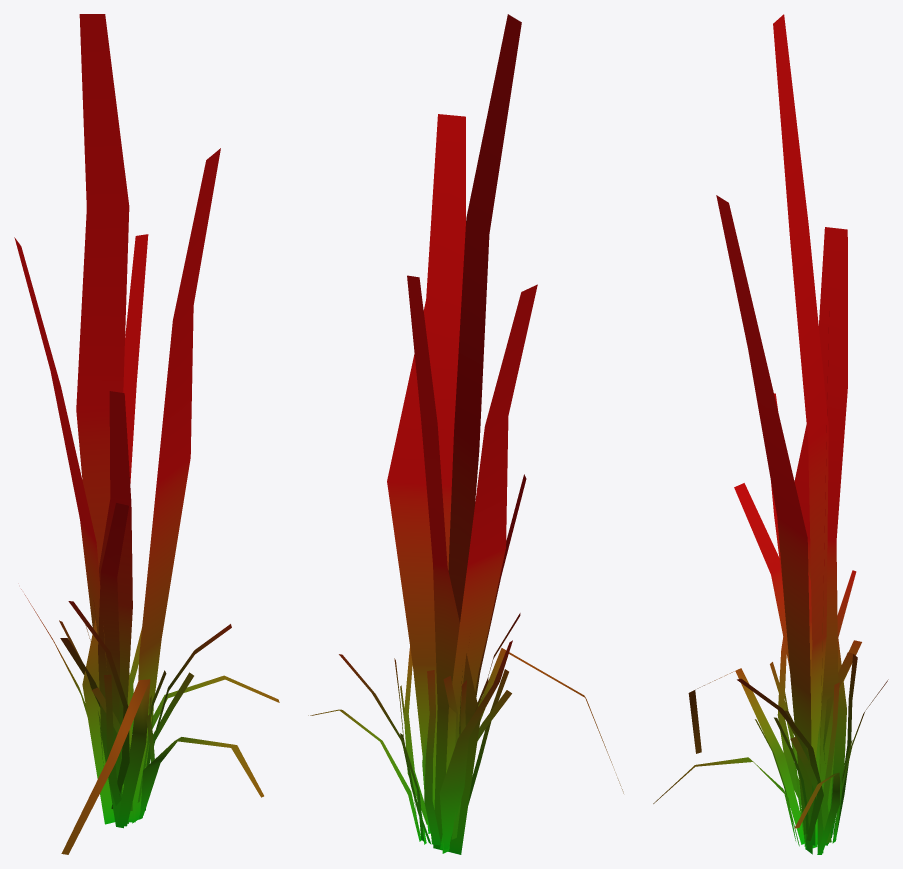
File: Var3_LOD2.fbx
3 renders of one model, left to right at view 1: azimuth 30°, elevation 25°; view 2: azimuth 150°, elevation 25°; view 3: azimuth 270°, elevation 25°, orthographic. The views are drawn at different scales.
Parts seen in each view (by area): view 1: _af56_Var3_LOD2; view 2: _af56_Var3_LOD2; view 3: _af56_Var3_LOD2.
Part boxes in pixels (left/top/right/bottom): _af56_Var3_LOD2: left=14, top=14, right=279, bottom=854; _af56_Var3_LOD2: left=308, top=14, right=623, bottom=854; _af56_Var3_LOD2: left=653, top=14, right=888, bottom=854.
Bounding box in the file's own units: 23.18 × 69.13 × 18.3.
